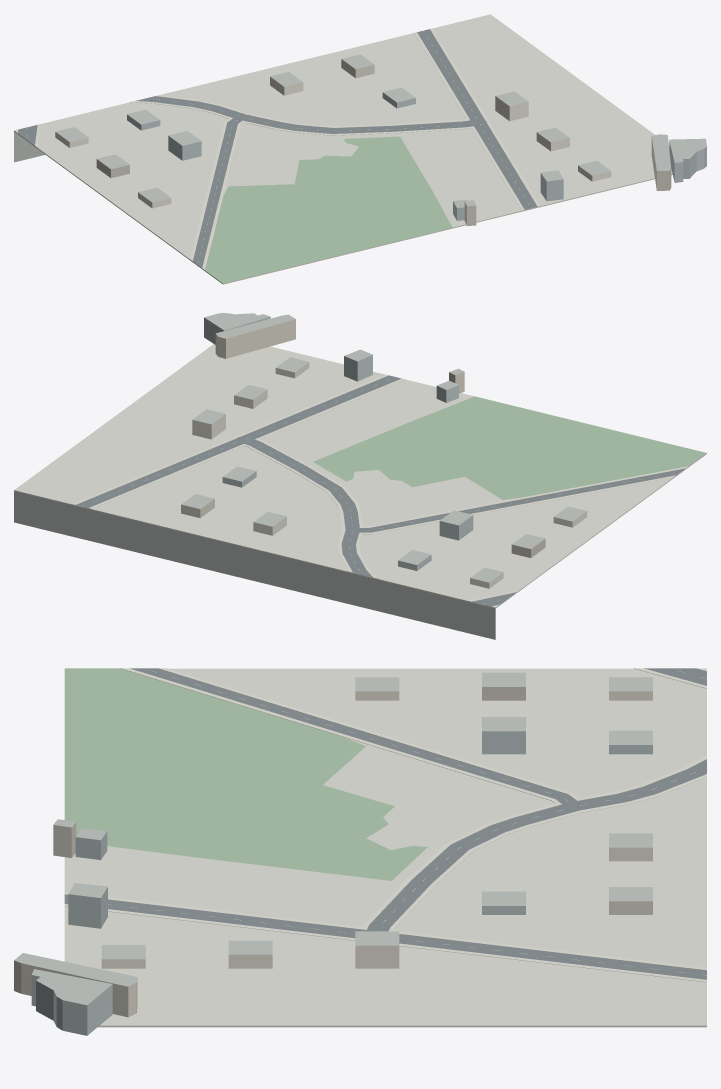
3 renders of one model, top to bottom at view 1: azimuth 30°, elevation 25°; view 2: azimuth 150°, elevation 25°; view 3: azimuth 270°, elevation 25°, orthographic. The views are drawn at different scales.
Visible parts, largest first — view 1: city; view 2: city; view 3: city.
Part boxes in pixels (box(x1,y1,x2,y2)): city: box(14, 14, 706, 284); city: box(14, 313, 706, 639); city: box(14, 668, 706, 1035).
Size of the model in its own units: 514 by 52 by 410.
